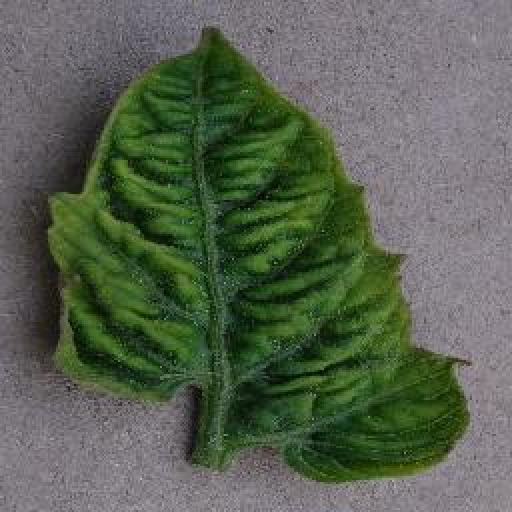disease_tomato: (43, 25, 474, 487)
